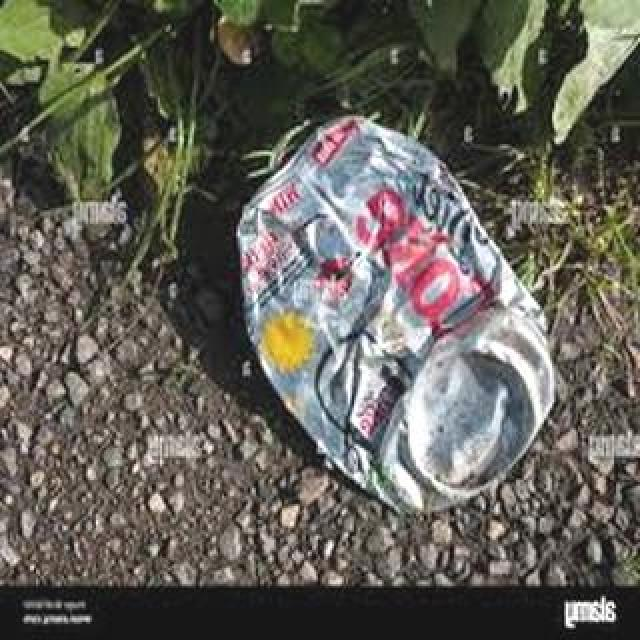Can: (219, 112, 569, 528)
